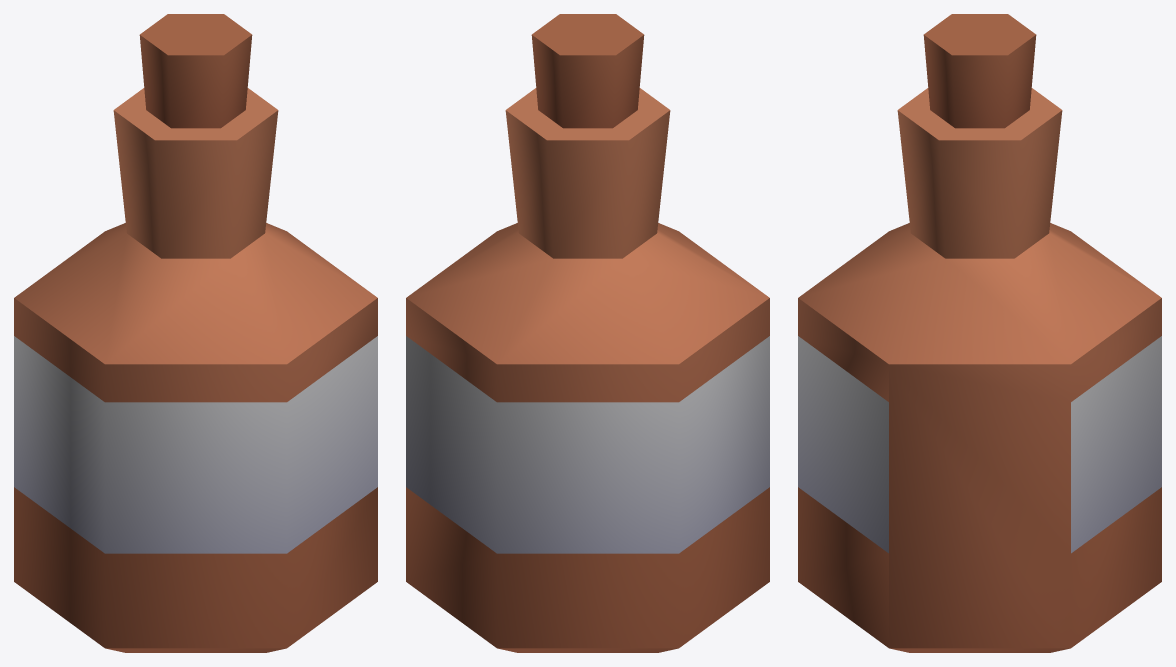
File: KS_bottle-large.glb
3 renders of one model, left to right at view 1: azimuth 30°, elevation 25°; view 2: azimuth 150°, elevation 25°; view 3: azimuth 270°, elevation 25°, orthographic.
Visible parts, largest first — view 1: bottle-large; view 2: bottle-large; view 3: bottle-large.
Boxes of the visible parts, bbox=[...] form: bottle-large: bbox=[14, 14, 377, 652]; bottle-large: bbox=[406, 14, 769, 652]; bottle-large: bbox=[798, 14, 1161, 652].
Bounding box in the file's own units: 0.0725 × 0.1439 × 0.0837.
